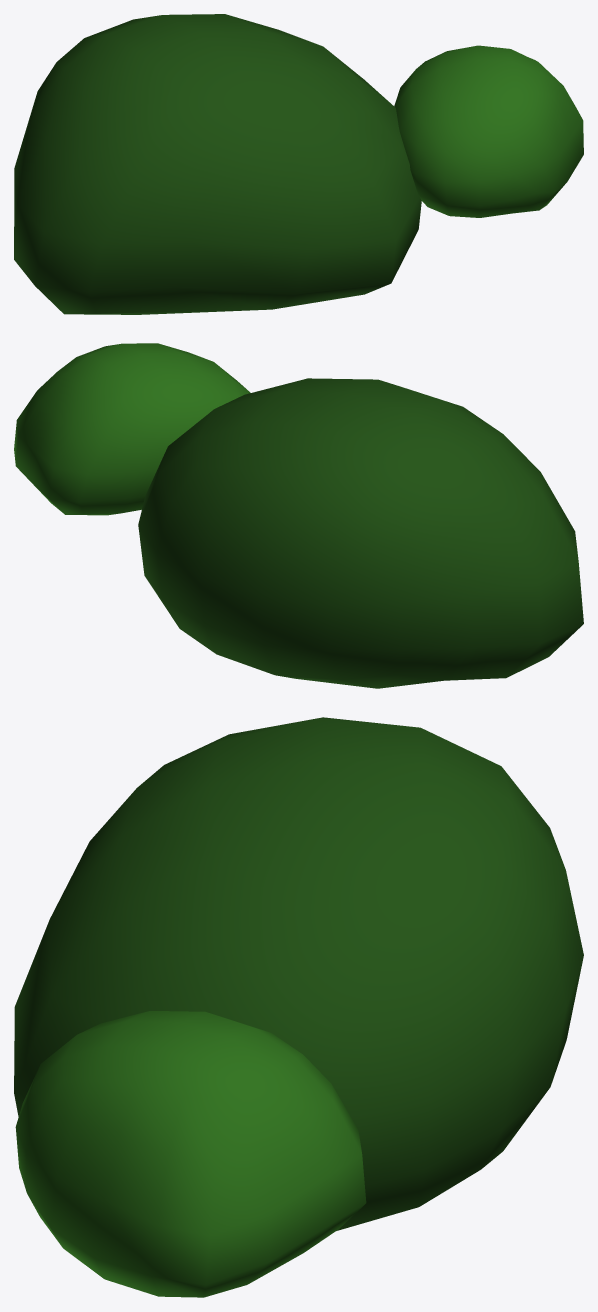
Rendered from arbusto.fbx.
The picture shows the model from 3 angles, top to bottom: view 1: azimuth 30°, elevation 25°; view 2: azimuth 150°, elevation 25°; view 3: azimuth 270°, elevation 25°; orthographic projection. The views are drawn at different scales.
Parts seen in each view (by area): view 1: arbusto; view 2: arbusto; view 3: arbusto.
Boxes of the visible parts, bbox=[...] form: arbusto: bbox=[14, 14, 583, 314]; arbusto: bbox=[14, 343, 583, 688]; arbusto: bbox=[14, 717, 583, 1297].
Size of the model in its own units: 769 by 342 by 444.
